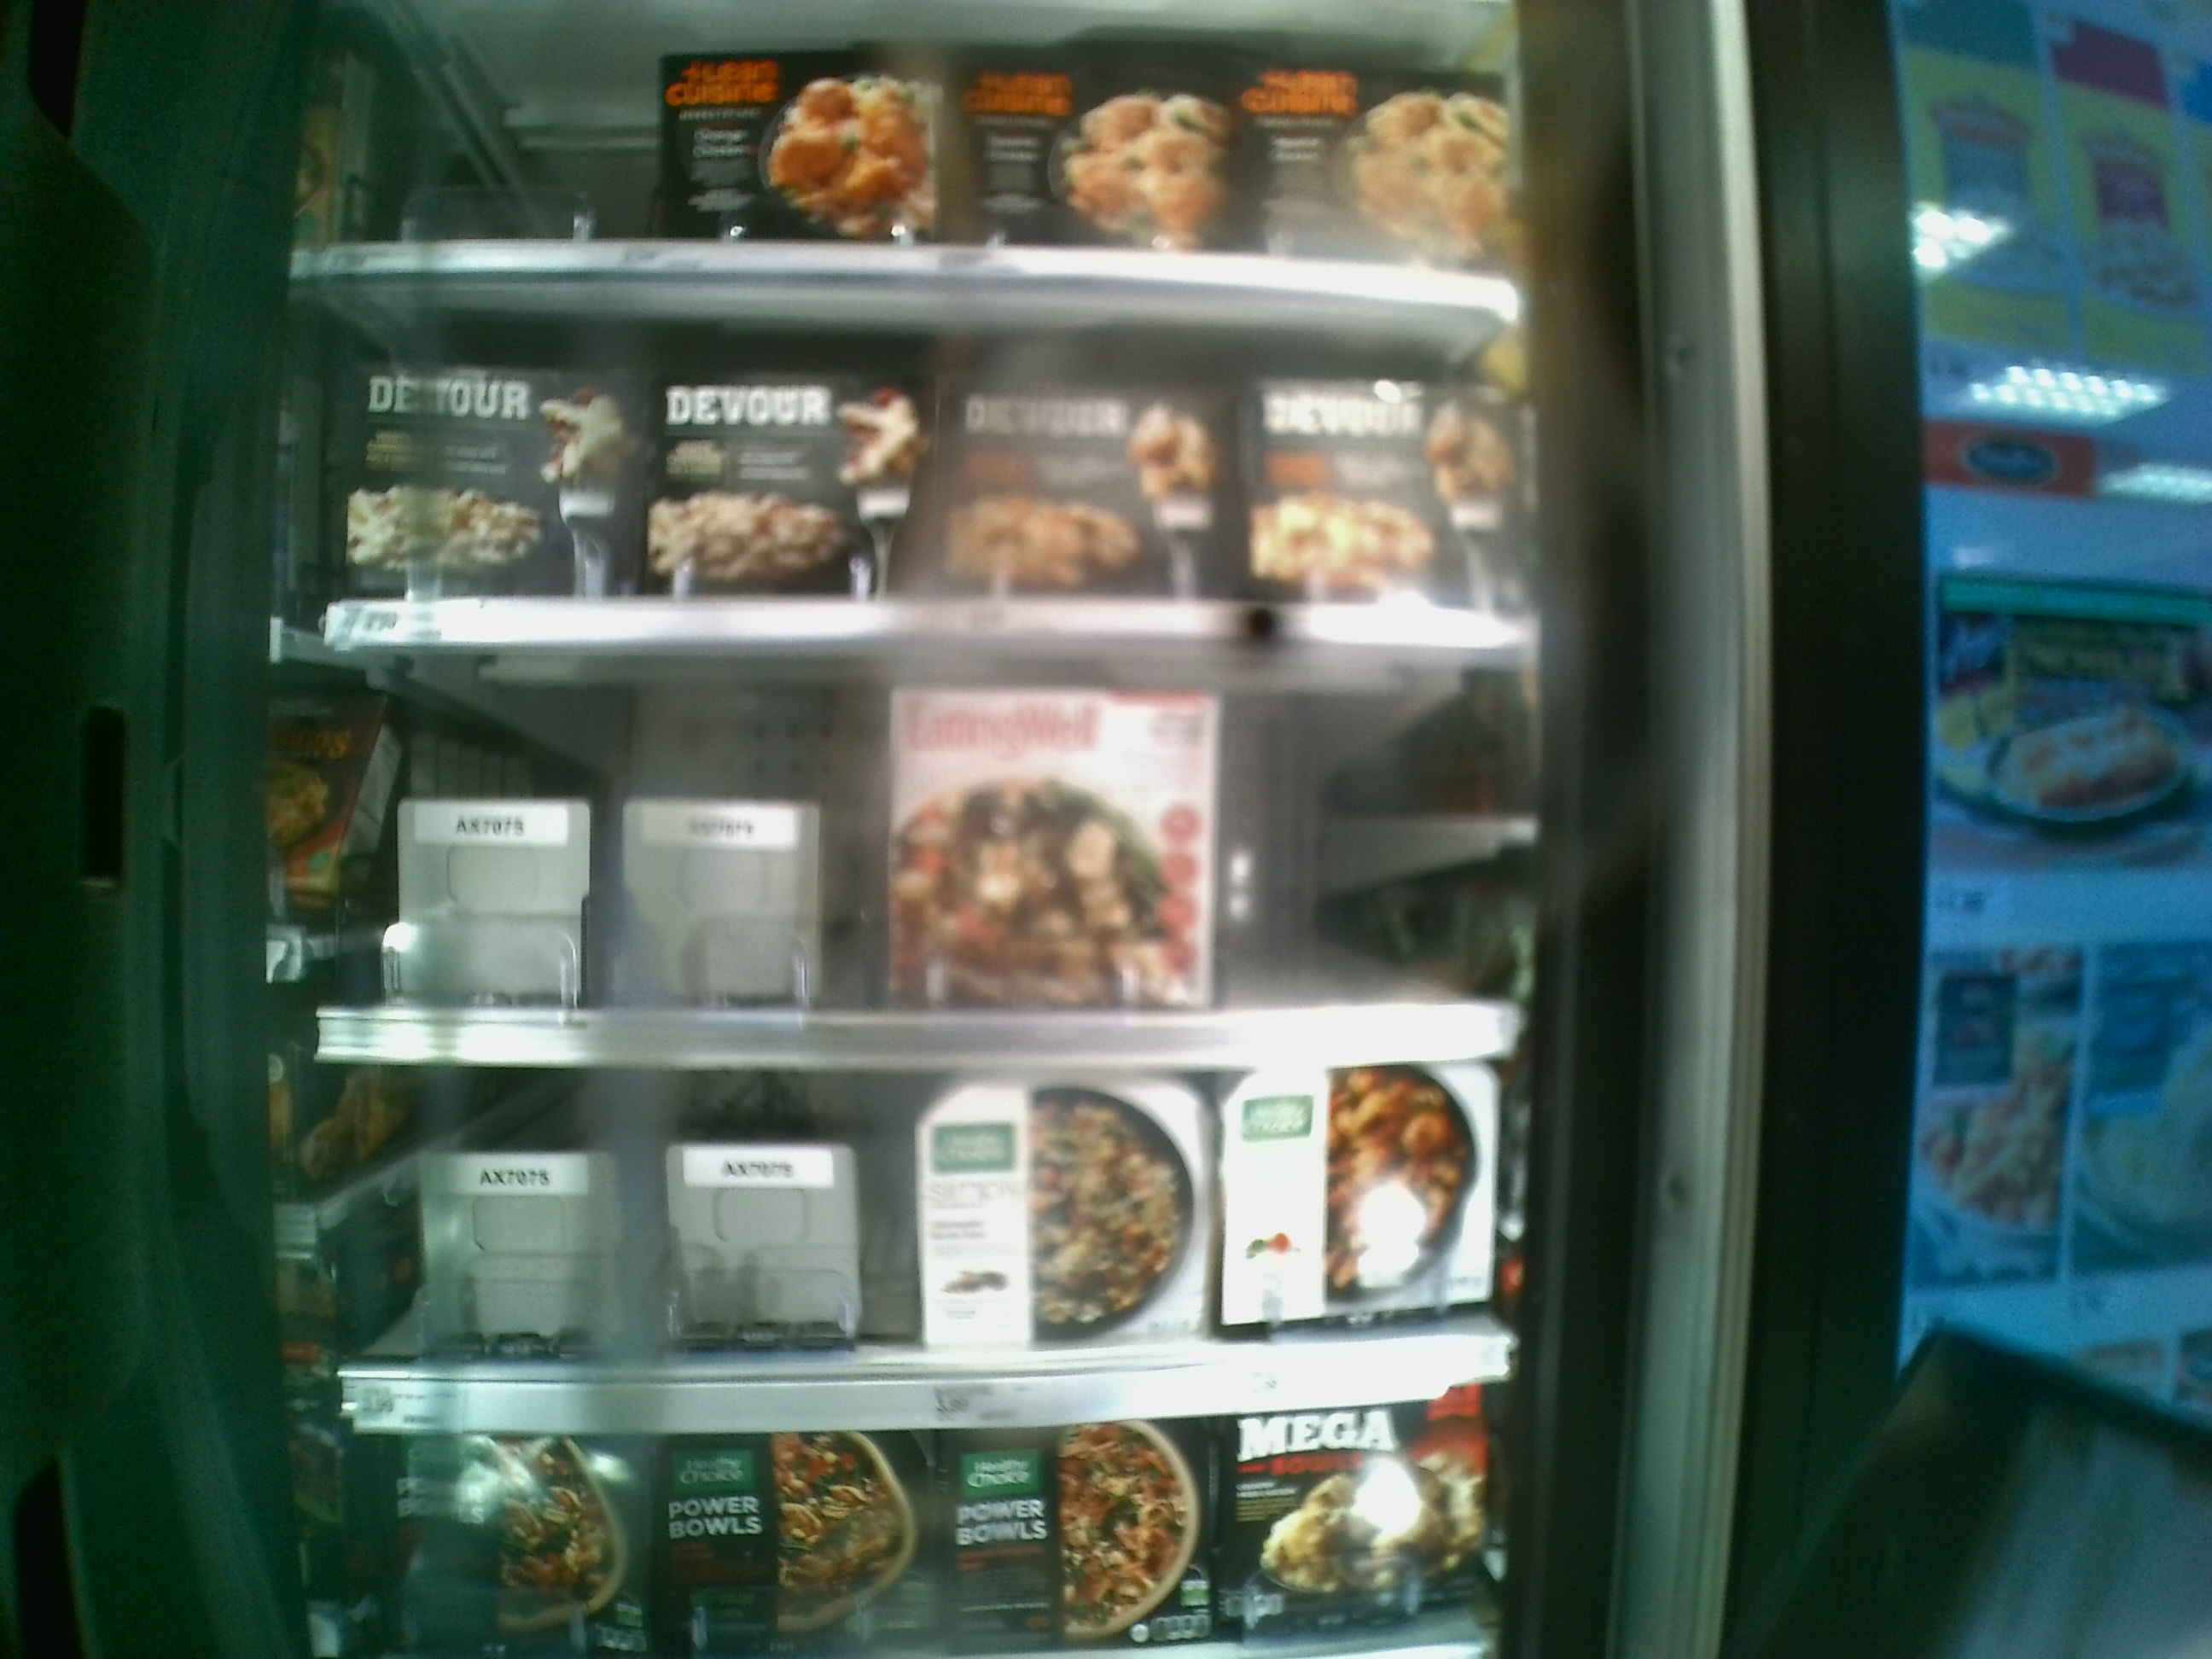Shelf: (319, 641, 1543, 1073), (310, 1063, 1543, 1439), (289, 275, 1526, 641)
